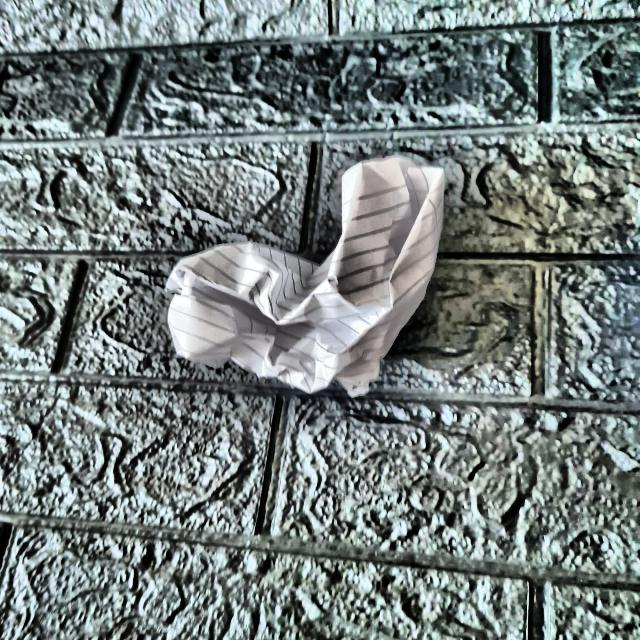Paper: (150, 158, 456, 382)
